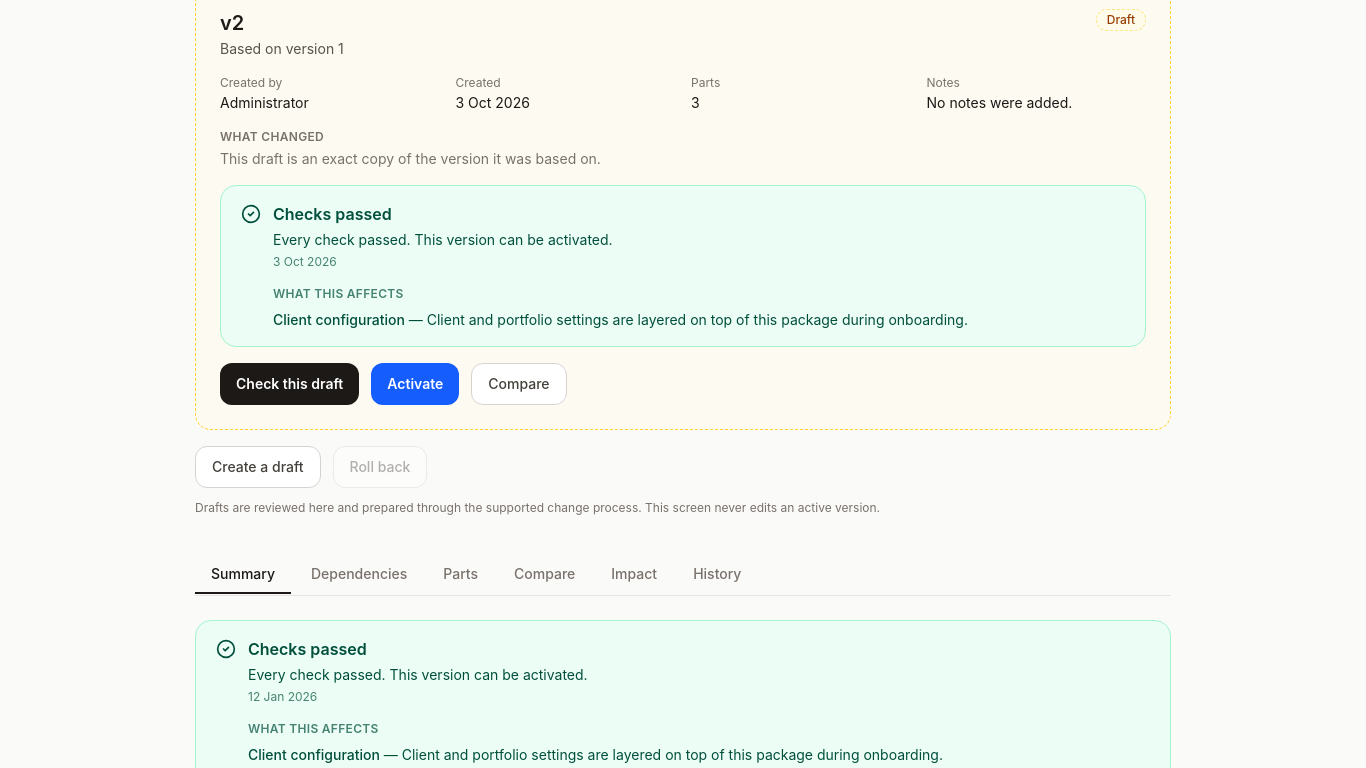
Test case: configuration lifecycle › reports a backend failure and leaves the shown state unchanged
The image size is (1366, 768).
(page scrolled)
Step 1. Click the button "Activate" → (415, 384), box [371,363,459,405]
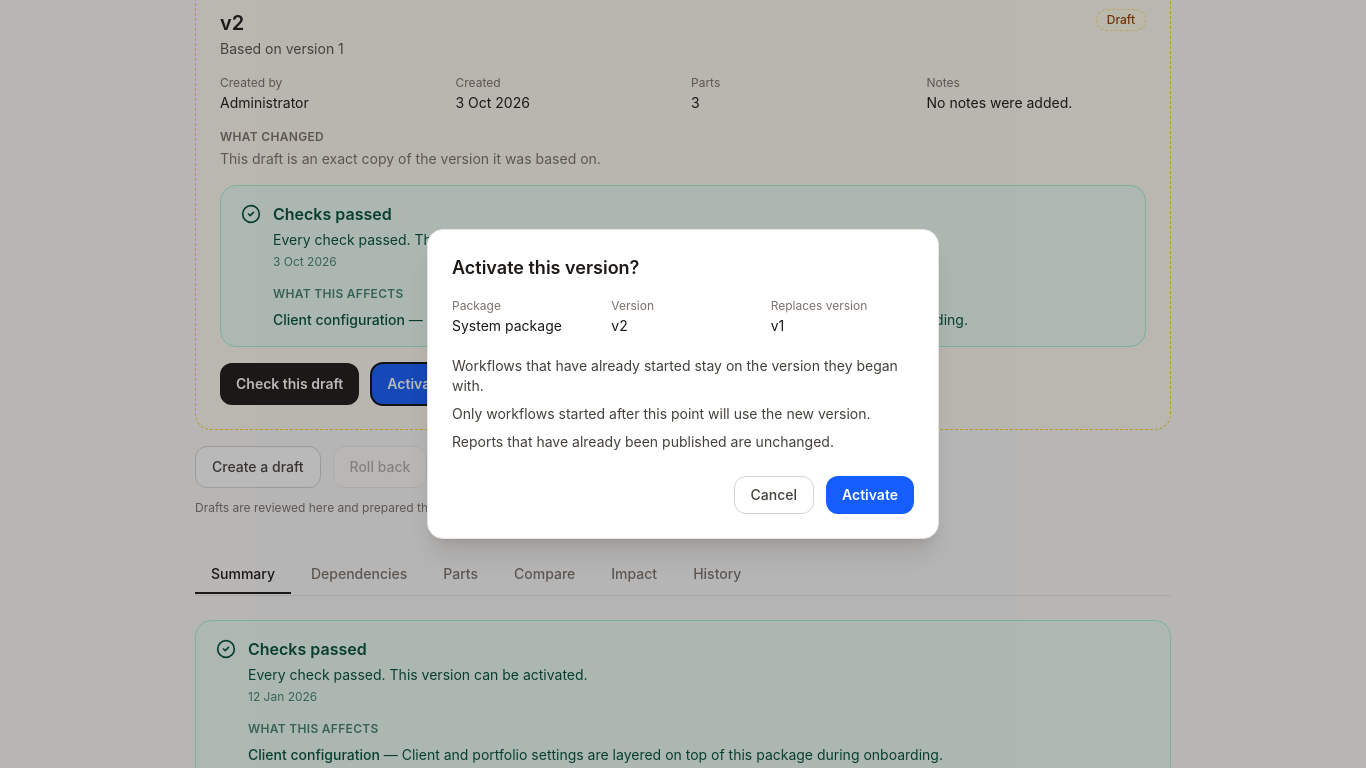
Step 2. Click the button "Activate" → (870, 495), box [826,476,914,514]
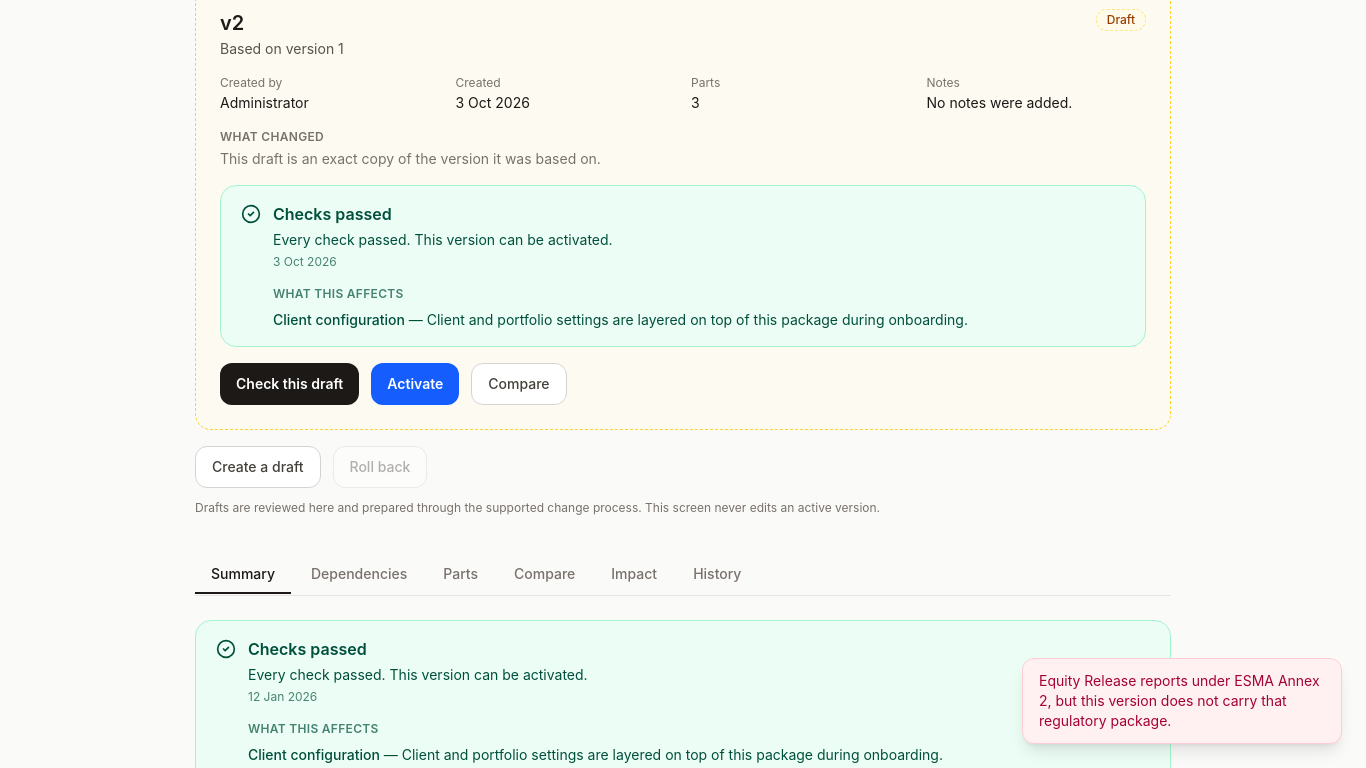
Expected: the text "v2" is shown, [220,11,244,35]
Result: the text "does not carry that regulatory package" is shown at [1039,672,1320,729]
